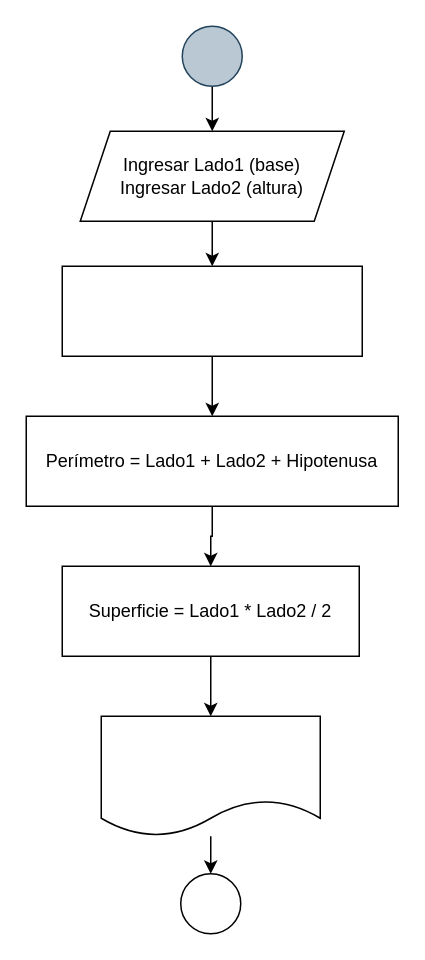
This 425x960 diagram has some shape labels left out. Here are the shapes that lost their labels. From the top down, the centre of each, then its label:
At (211,310): "Hipotenusa= Lado1^2 + Lado2^2".
At (210,775): "Print Hipotenusa + Superficie + Perimetro".
